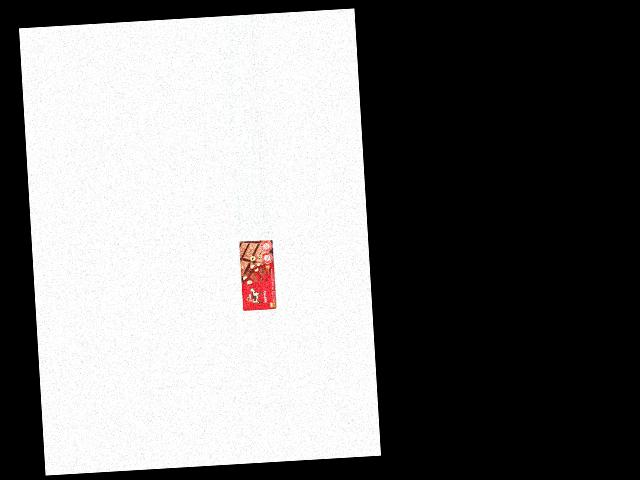chocolate: (238, 239, 277, 311)
